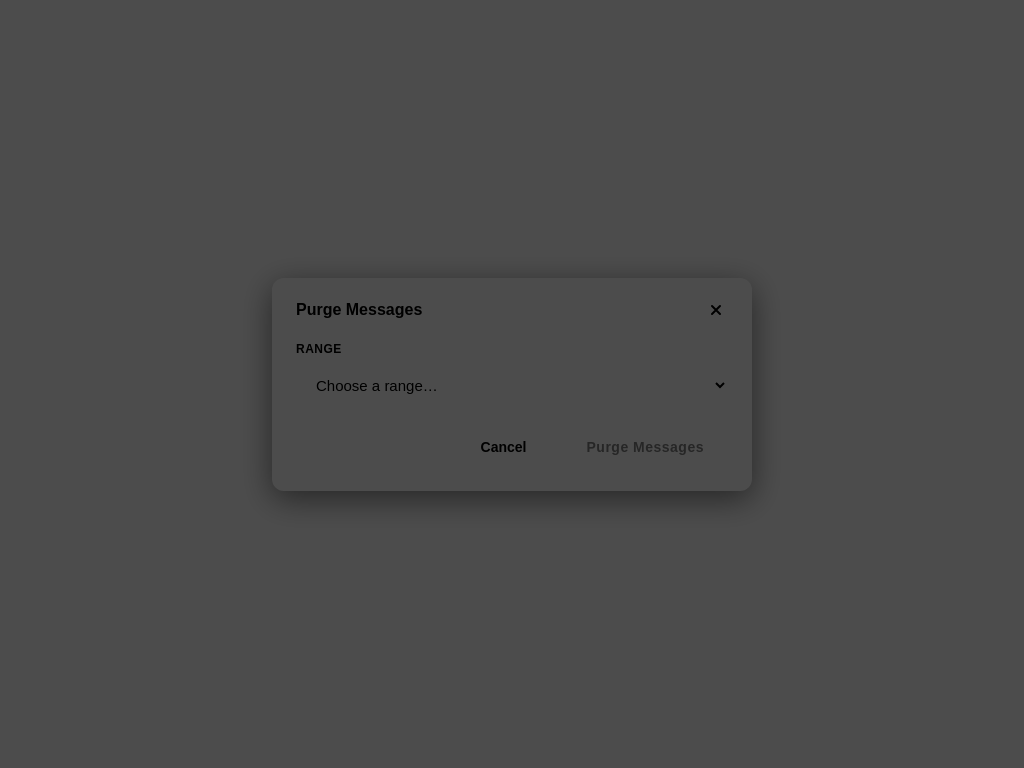
Scenario: PurgeMessagesModal: dangerous-action stage › a D1 mfa_required opens the MFA stage: heading focused, its own intro, a code and no password
Select "Last 7 days" in the dropdown labelled "Range" at [512, 385], box [296,364,728,406]
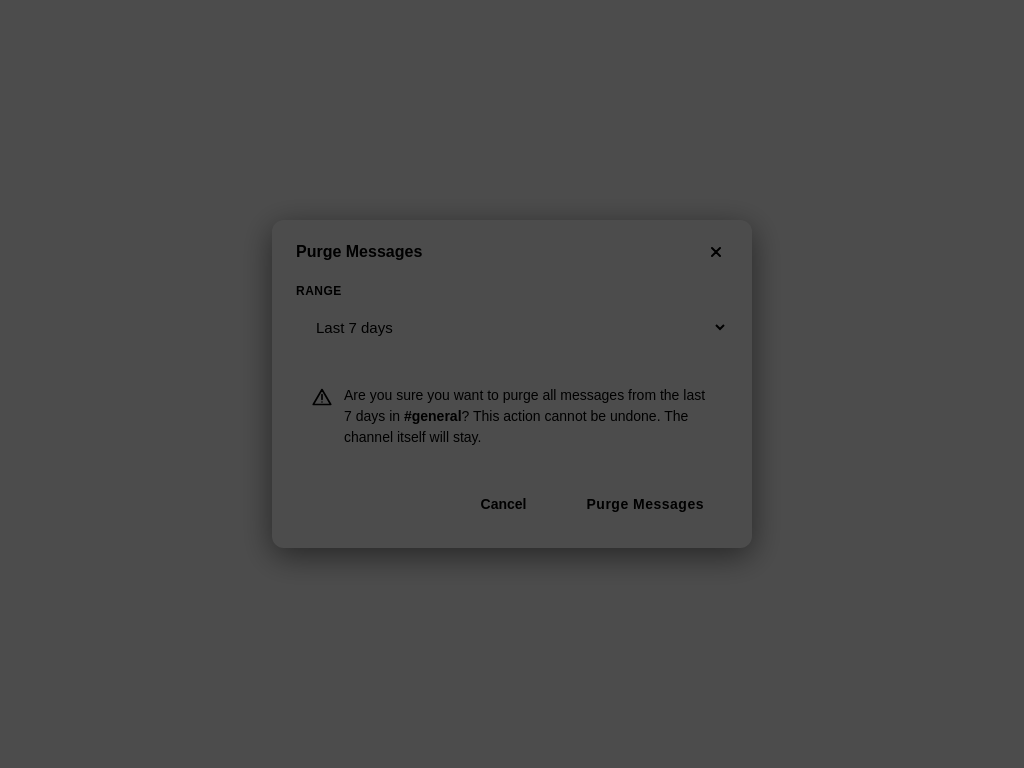
Click the button "Purge Messages" at [645, 504], box [562,484,728,524]
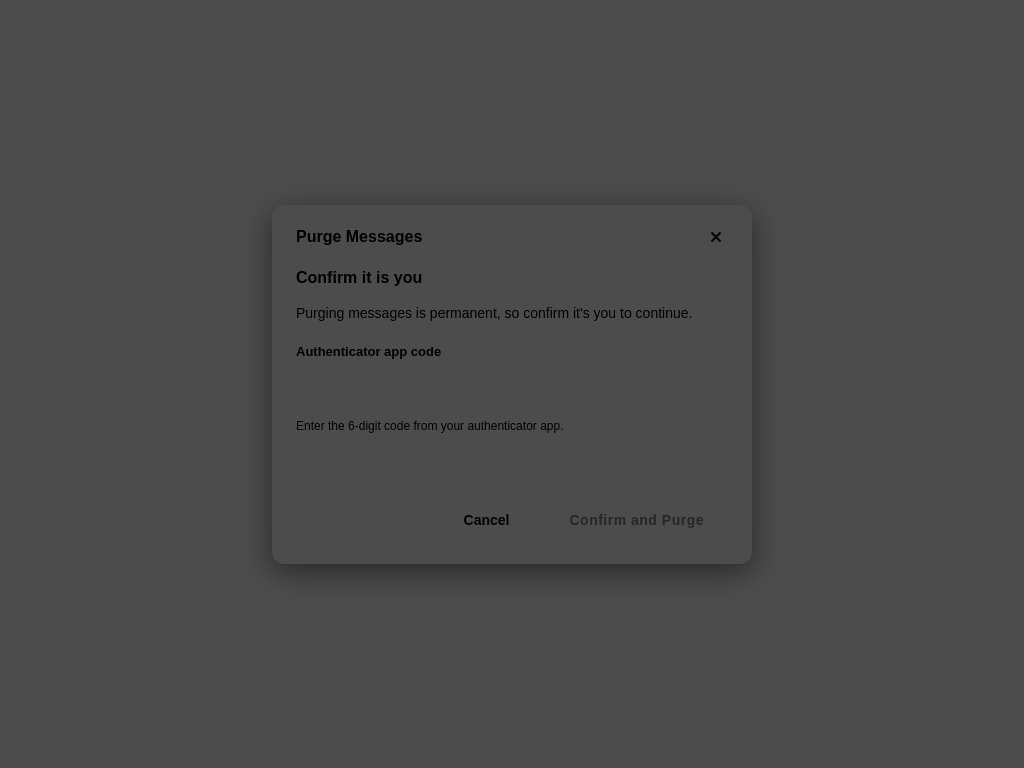
Expected: the text "Purging messages is permanent, so confirm it's you to continue." is shown, [296,302,728,324]
